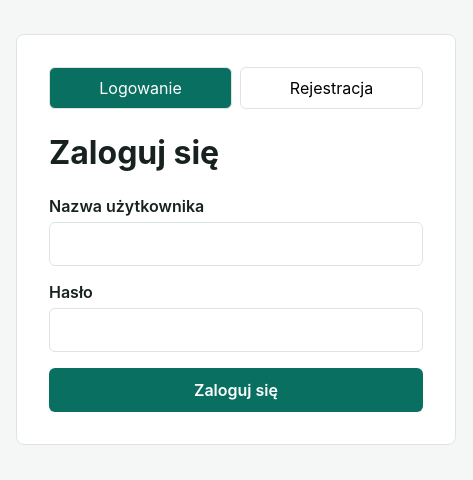
Test: App › pokazuje odpowiedni komunikat po podaniu błędnego hasła
This screenshot has width=473, height=480.
Type "jan" into the field labelled "Nazwa użytkownika". click: (236, 244)
box: [49, 222, 423, 266]
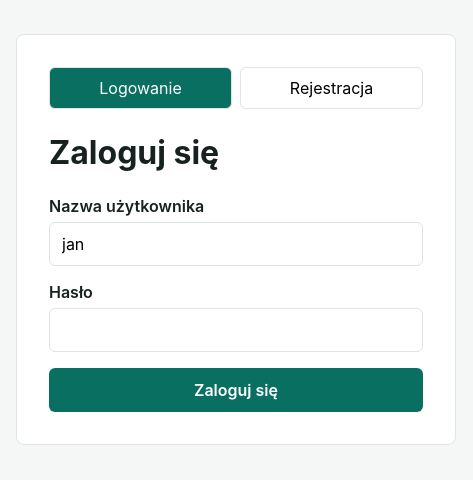
Type "zle-haslo" into the password field labelled "Hasło". click: (236, 330)
box: [49, 308, 423, 352]
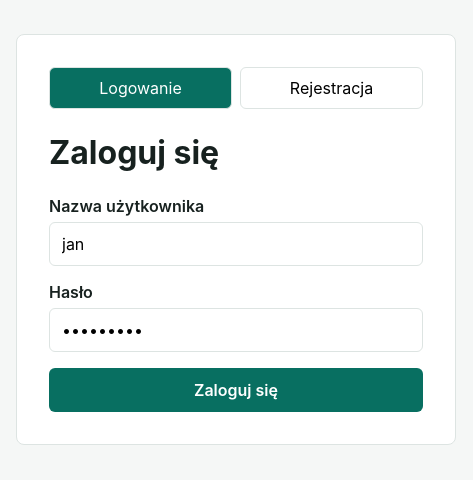
Click the button "Zaloguj się". click: (236, 390)
box: [49, 368, 423, 412]
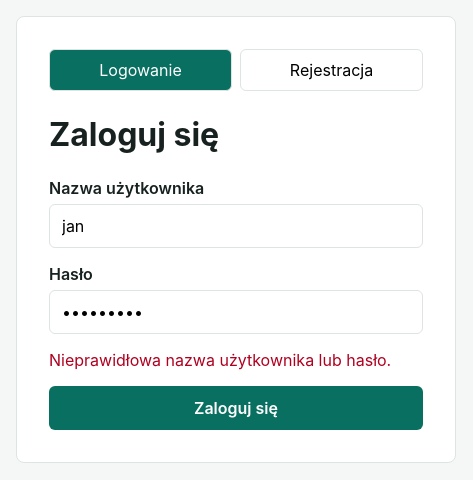
Check: the message reads "Nieprawidłowa nazwa użytkownika lub hasło.", box [49, 350, 391, 370]
